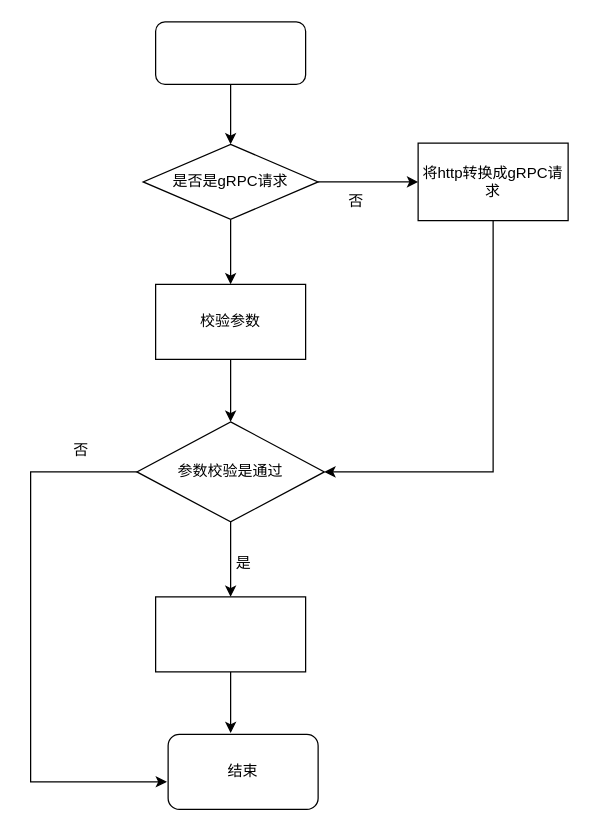
This 590x831 diagram has some shape labels left out. The centre of each missing label's shape, as x and y in pixels:
"开始" goes at point (230, 52).
"更新数据库中的文件上传状态" goes at point (230, 634).
